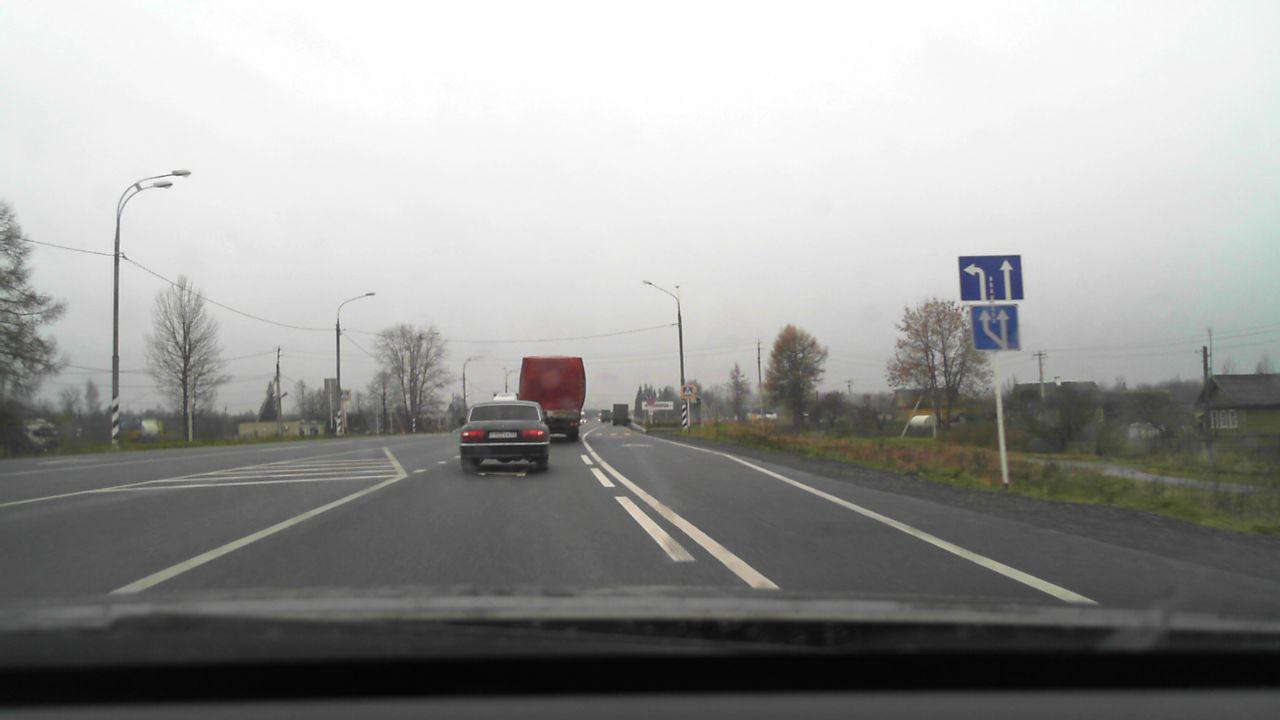3_27: (647, 397, 655, 406)
5_15_1: (955, 251, 1027, 301)
5_15_3: (971, 304, 1021, 350)
5_19_1: (684, 386, 695, 397)
5_19_2: (340, 390, 350, 399)
